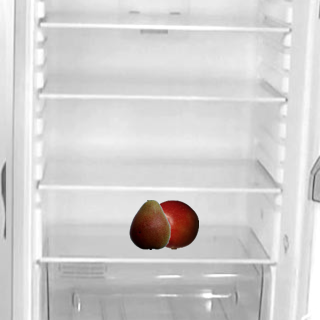Apple Braeburn: (148, 199, 198, 249)
Pear Forelle: (124, 199, 174, 249)
